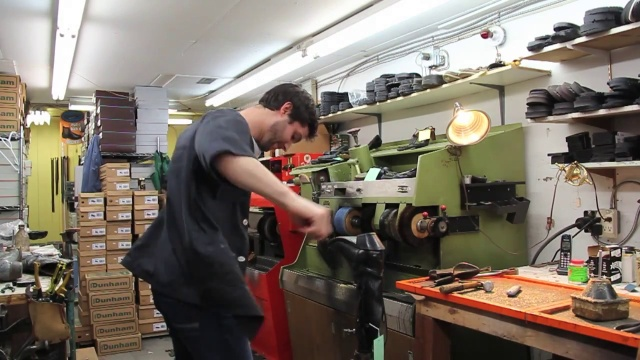person: (126, 88, 370, 360)
